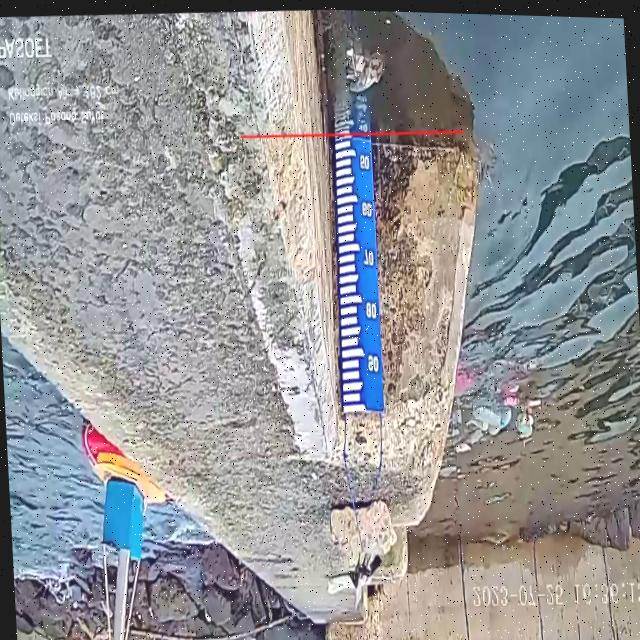water-meter: (322, 102, 392, 422)
